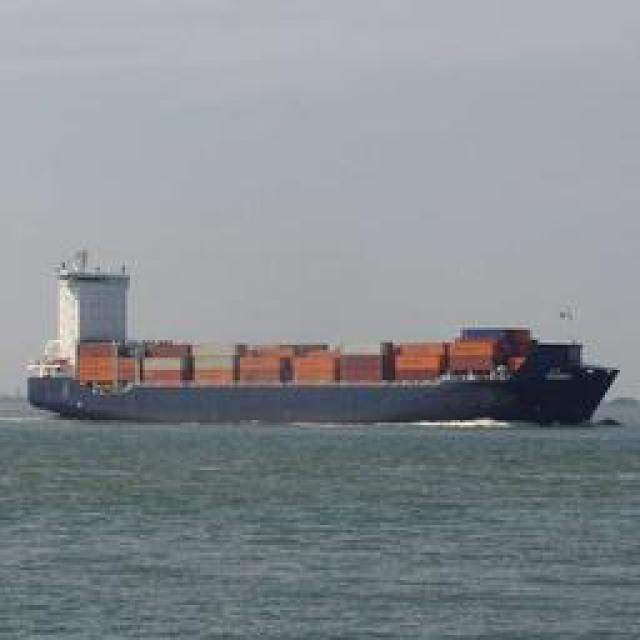Ship: (25, 331, 630, 429)
